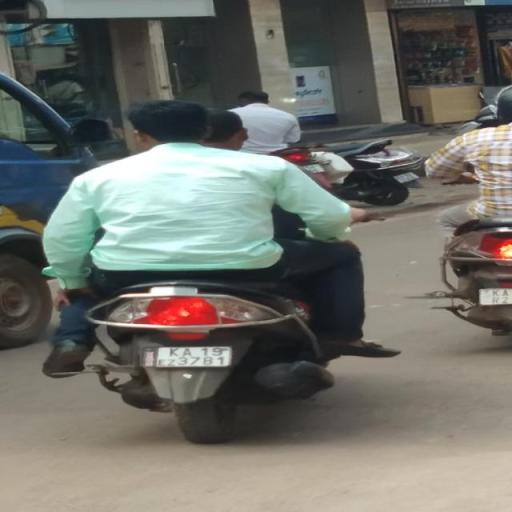bike: (43, 92, 384, 446)
numberplate: (156, 347, 232, 371)
withouthelmet: (129, 99, 207, 143), (210, 110, 240, 150)
